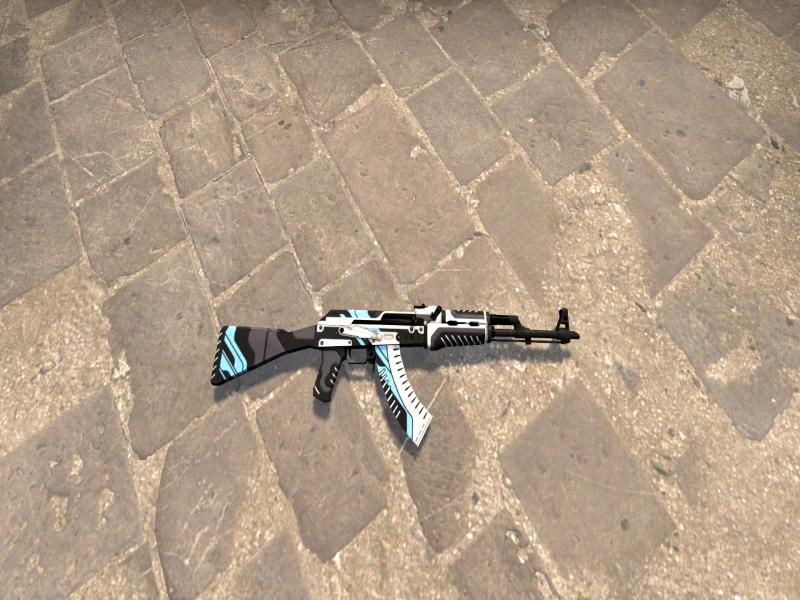AK47: (210, 305, 580, 445)
